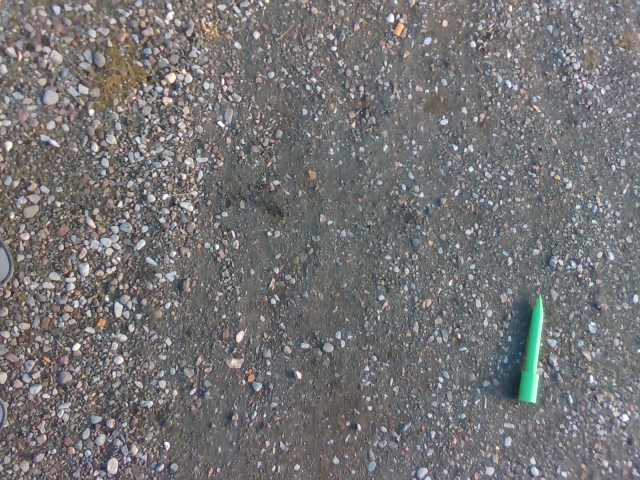Probe: (514, 292, 548, 407)
